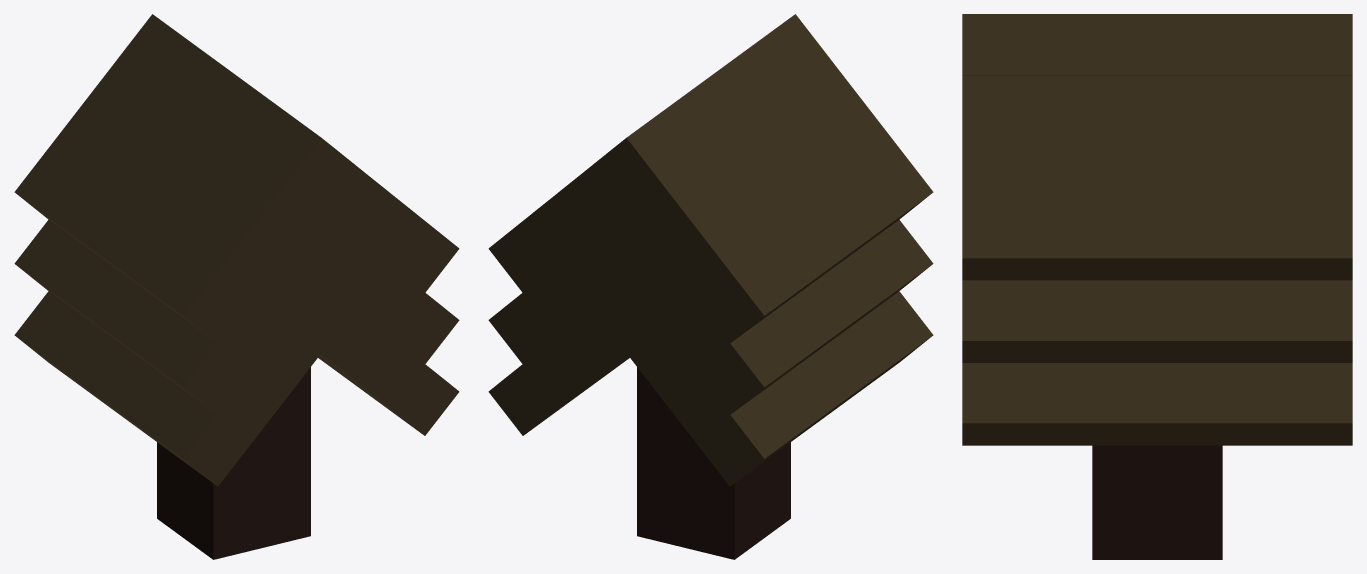
The model's file is HardTree.fbx.
3 renders of one model, left to right at view 1: azimuth 30°, elevation 25°; view 2: azimuth 150°, elevation 25°; view 3: azimuth 270°, elevation 25°, orthographic. The views are drawn at different scales.
Visible parts, largest first — view 1: Cube.004, Cube.001; view 2: Cube.004, Cube.001; view 3: Cube.004, Cube.001.
Part boxes in pixels (bbox=[...]): Cube.004: bbox=[14, 14, 459, 486]; Cube.001: bbox=[157, 367, 310, 559]; Cube.004: bbox=[488, 14, 933, 486]; Cube.001: bbox=[637, 367, 790, 559]; Cube.004: bbox=[962, 14, 1352, 445]; Cube.001: bbox=[1092, 445, 1222, 559].
Bounding box in the file's own units: 113 × 176 × 120.
